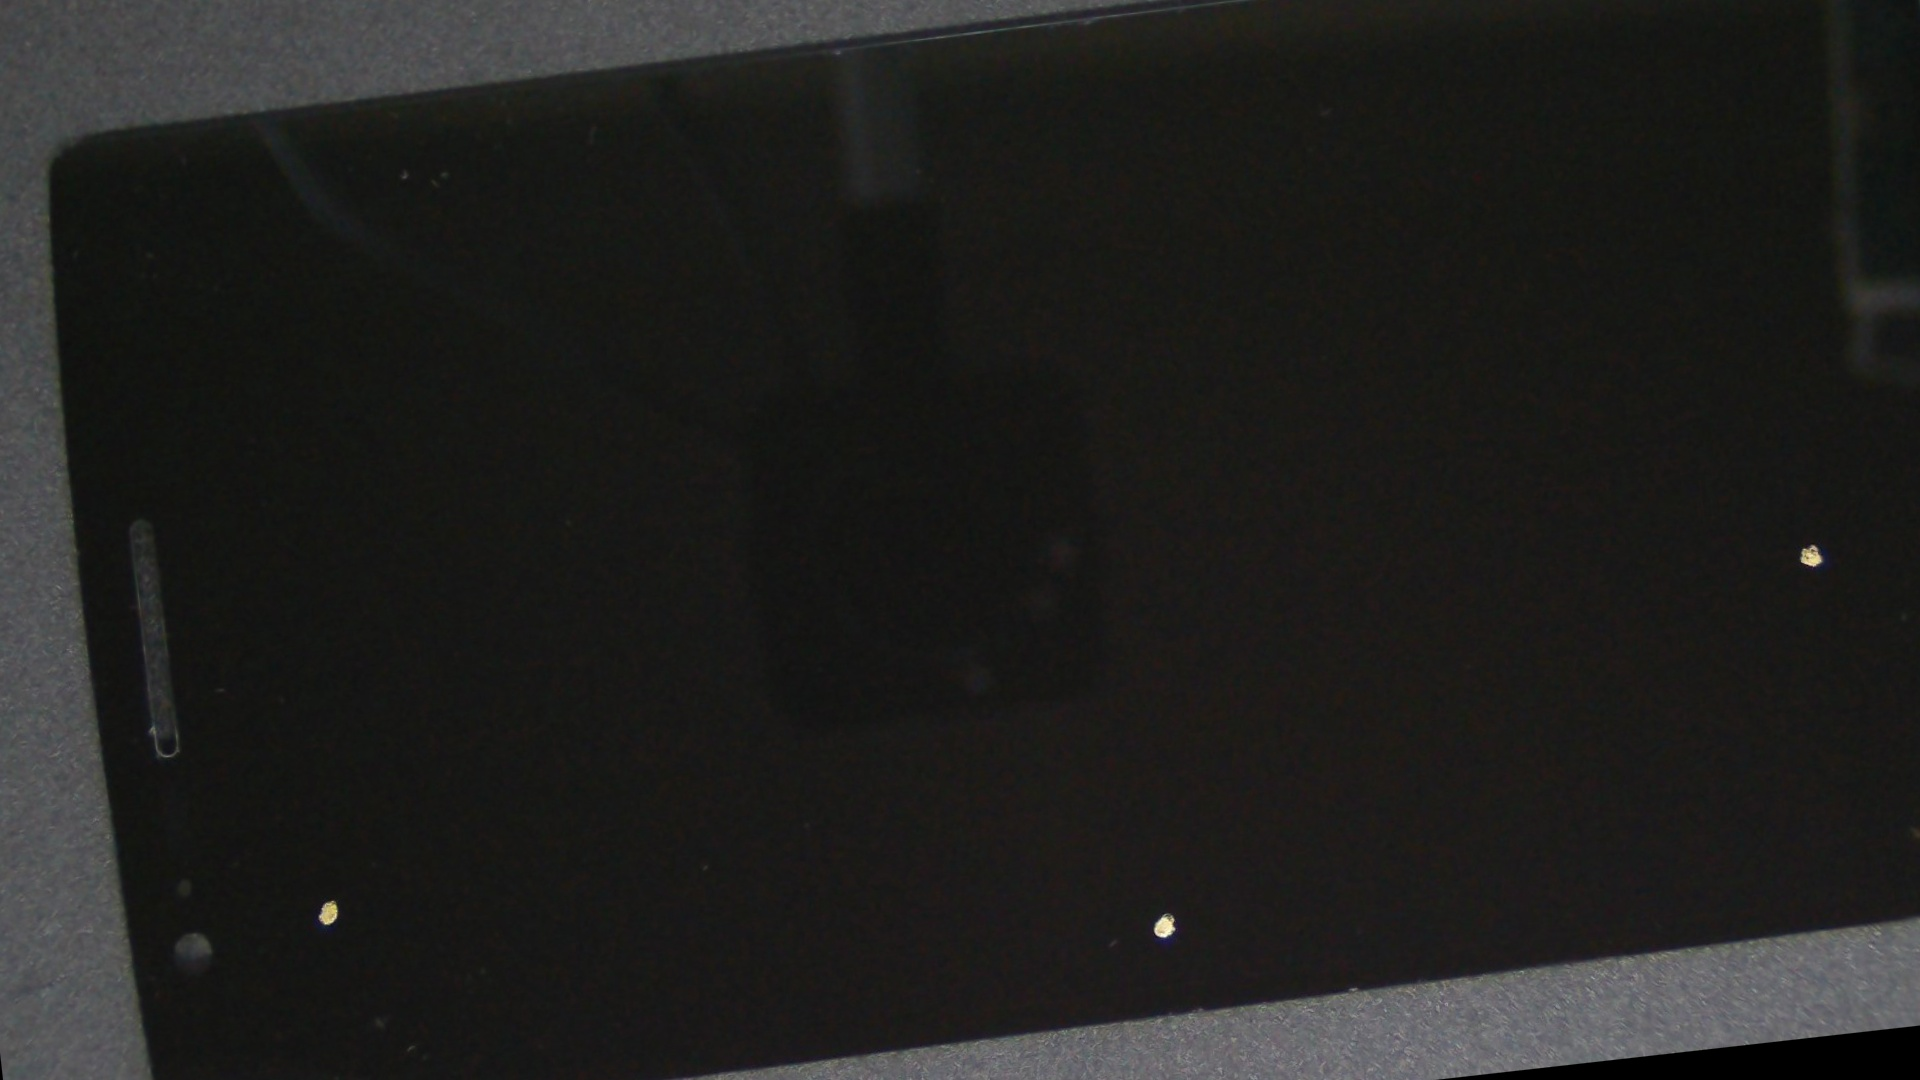oil: (848, 132, 1920, 1023), (524, 319, 1768, 1080), (105, 406, 533, 1080)
